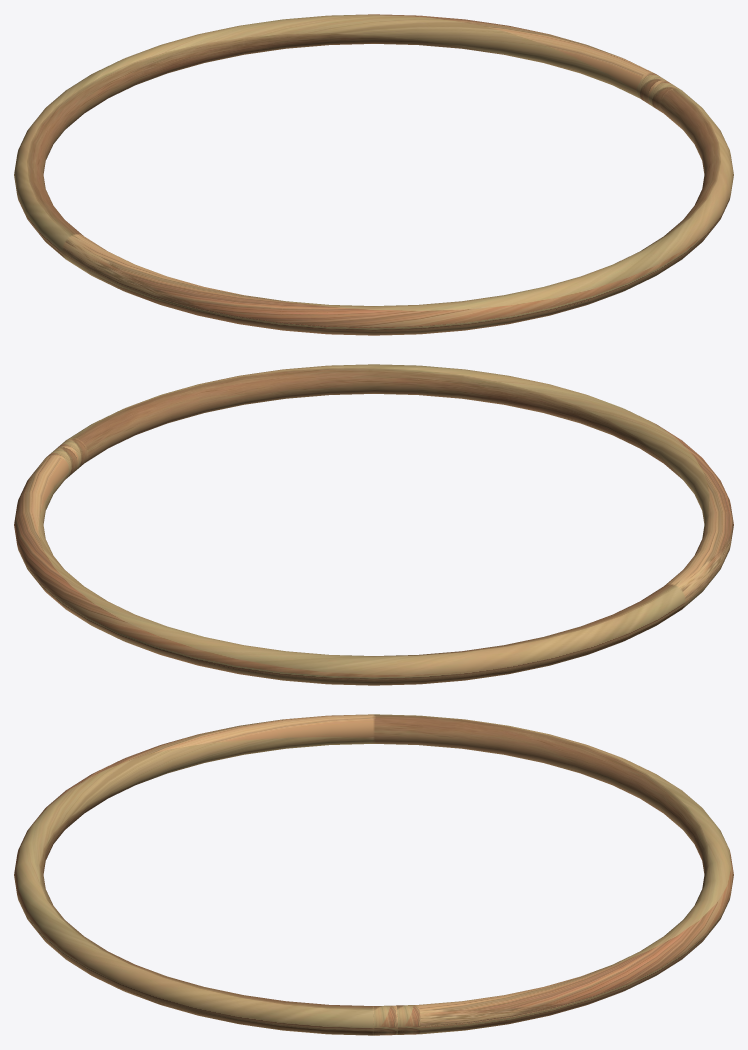
The model's file is drop-ring.glb.
3 renders of one model, top to bottom at view 1: azimuth 30°, elevation 25°; view 2: azimuth 150°, elevation 25°; view 3: azimuth 270°, elevation 25°, orthographic.
Size of the model in its own units: 0.219 by 0.009 by 0.219.
Materials: 1 (1 with a texture image).
